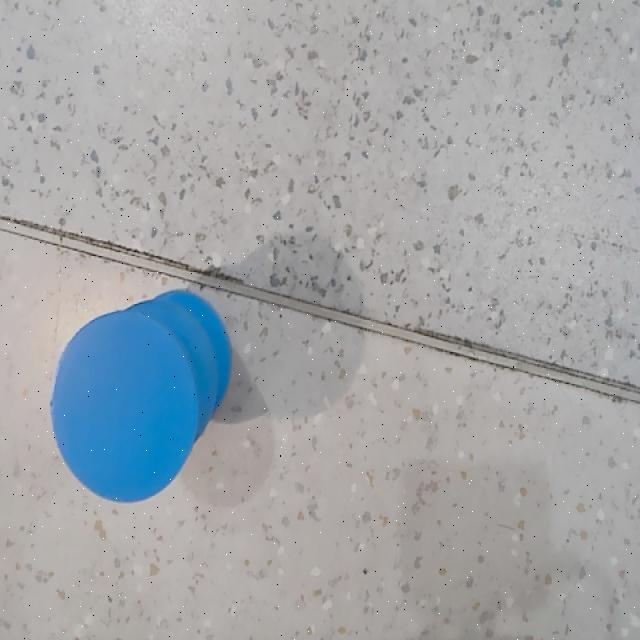b: (51, 311, 197, 503)
